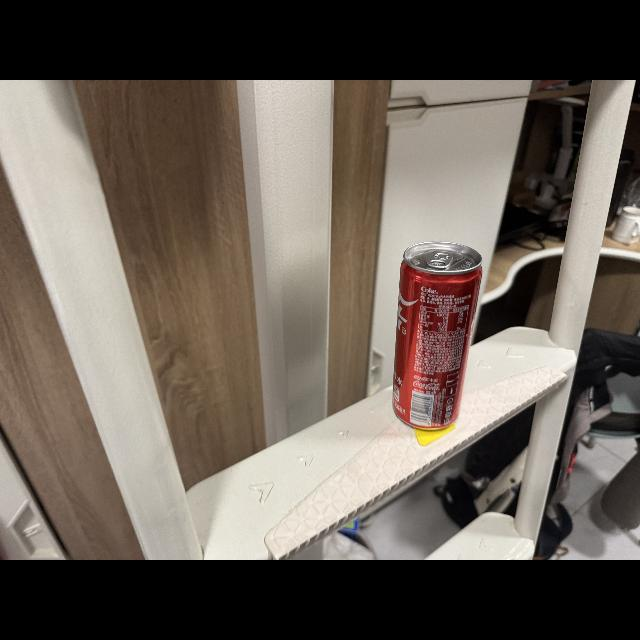Cola: (388, 236, 487, 434)
